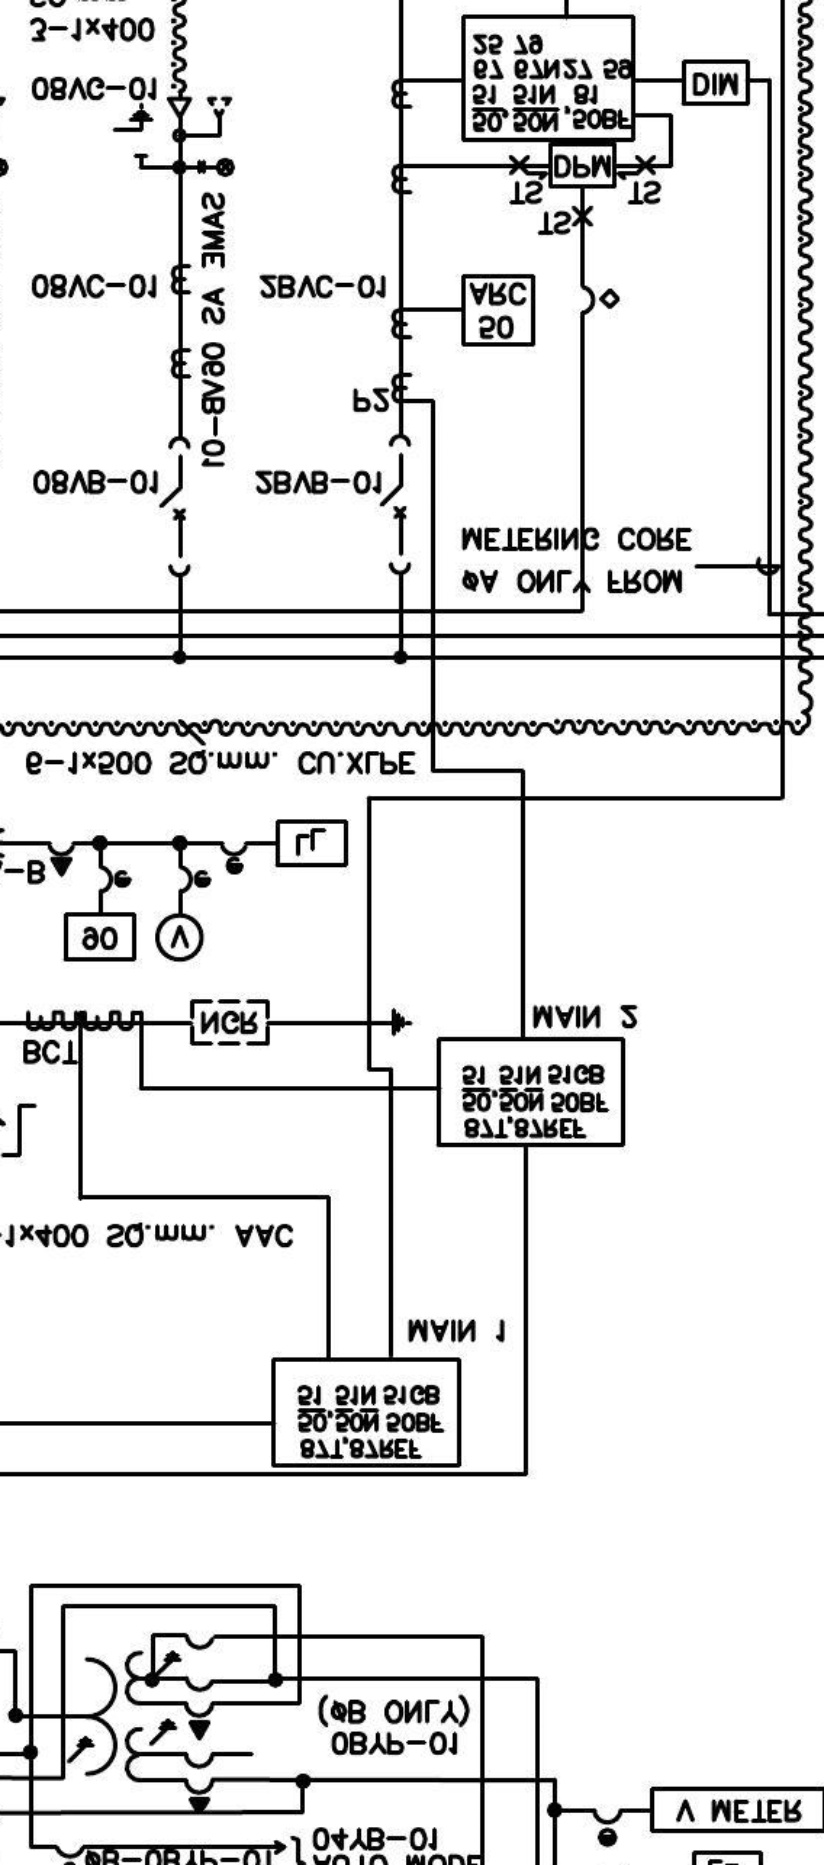115_vt_1p: (66, 1649, 216, 1815)
22_breaker: (157, 435, 192, 579), (378, 432, 412, 577)
22_gs: (111, 102, 156, 160)
22_ll: (194, 157, 237, 178)
DIM: (681, 58, 751, 107)
DPM: (547, 142, 617, 190)
LL: (273, 818, 350, 869)
NGR_future: (188, 997, 414, 1048)
terminator_w_future: (165, 95, 233, 140)
v_m: (154, 911, 204, 963)
